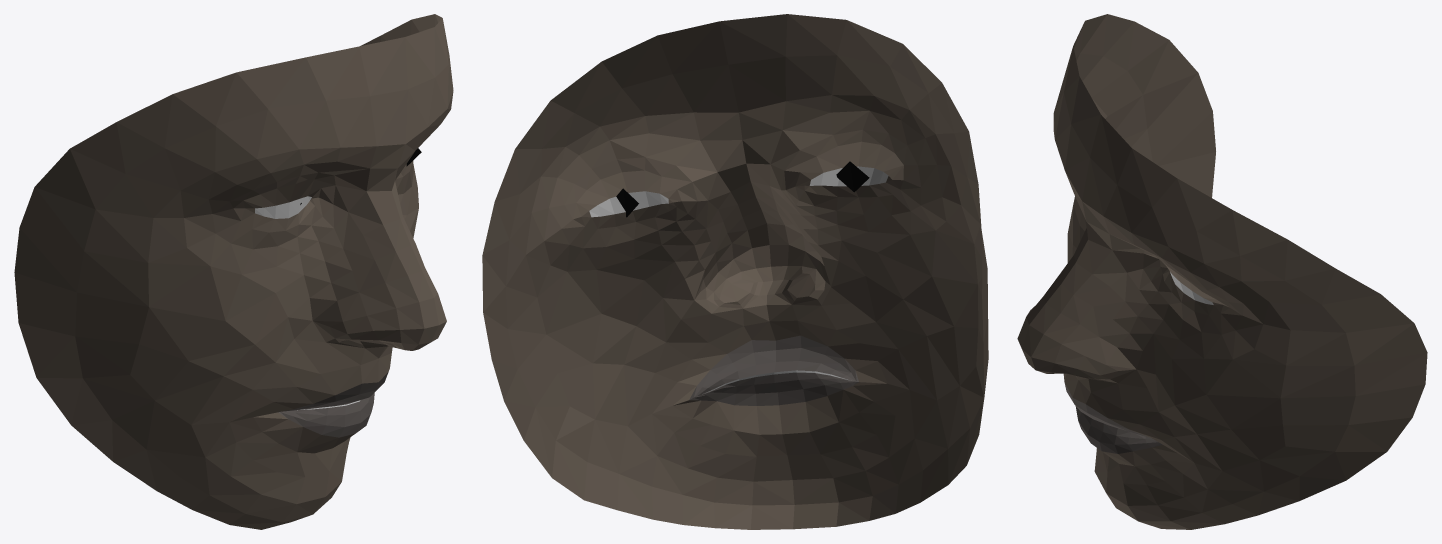
The model's file is frame_00143.obj.
3 views of the same model, side by side, from view 1: azimuth 30°, elevation 25°; view 2: azimuth 150°, elevation 25°; view 3: azimuth 270°, elevation 25° (orthographic). The views are drawn at different scales.
Visible parts, largest first — view 1: face_model_with_iris; view 2: face_model_with_iris; view 3: face_model_with_iris.
Boxes of the visible parts, x1,y1,x2,y2 form: face_model_with_iris: [14, 14, 453, 529]; face_model_with_iris: [482, 14, 988, 529]; face_model_with_iris: [1017, 14, 1427, 529].
Size of the model in its own units: 0.5016 by 0.5446 by 0.4385.
